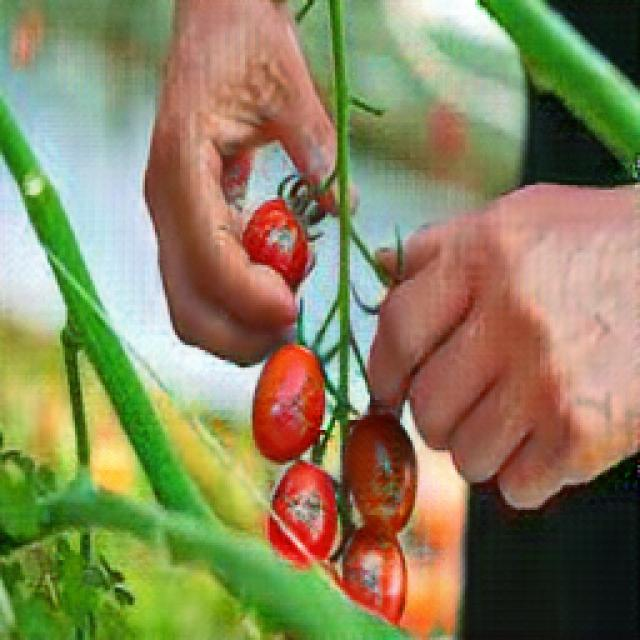overripe tomato: (342, 415, 426, 534), (234, 189, 318, 302), (242, 338, 324, 451), (340, 530, 416, 622), (267, 462, 335, 558)
